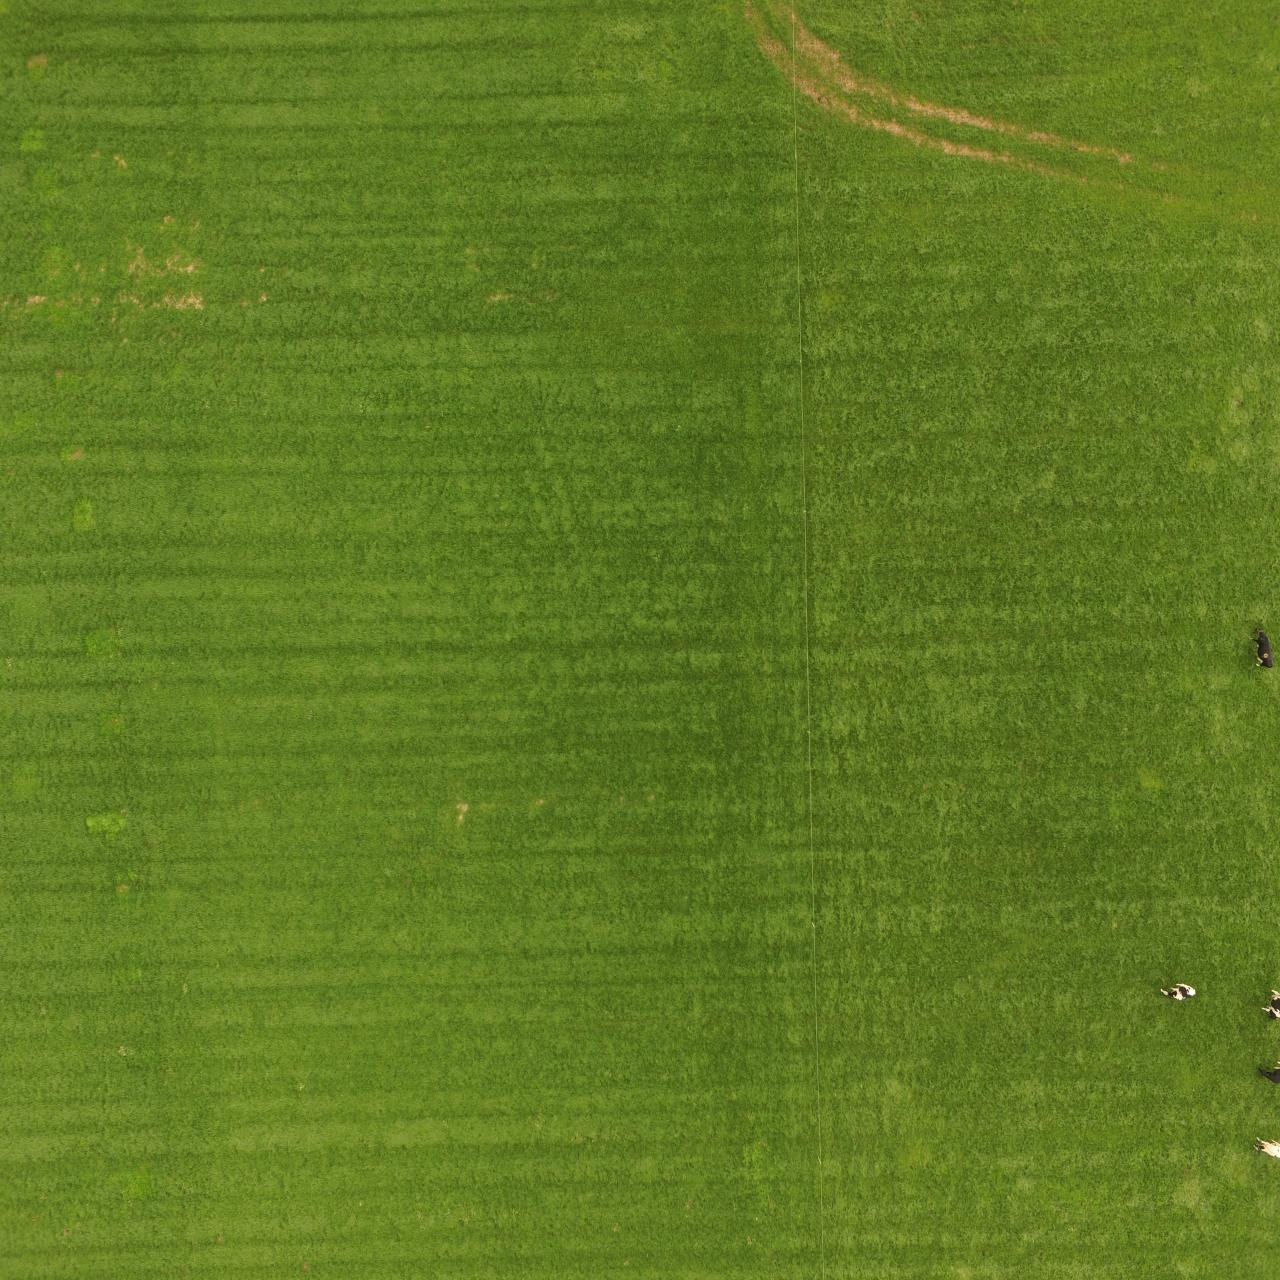cow: (1253, 624, 1275, 674), (1157, 979, 1198, 1000)
